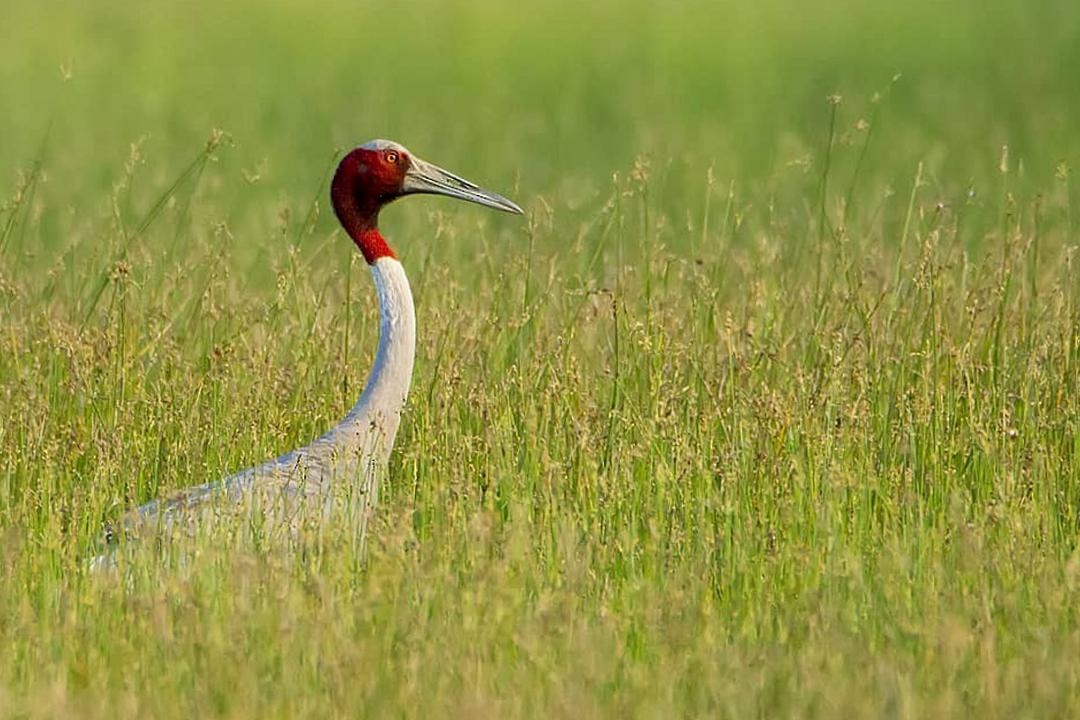crane: (94, 118, 534, 605)
